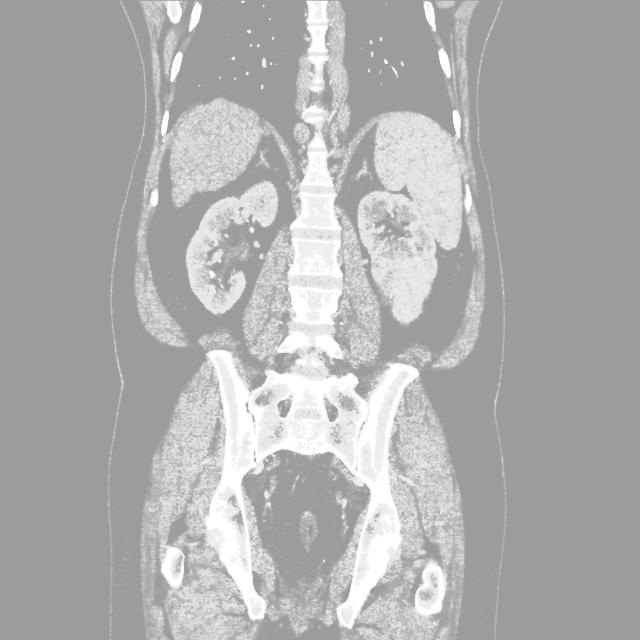TUMOR: (154, 148, 540, 355)
